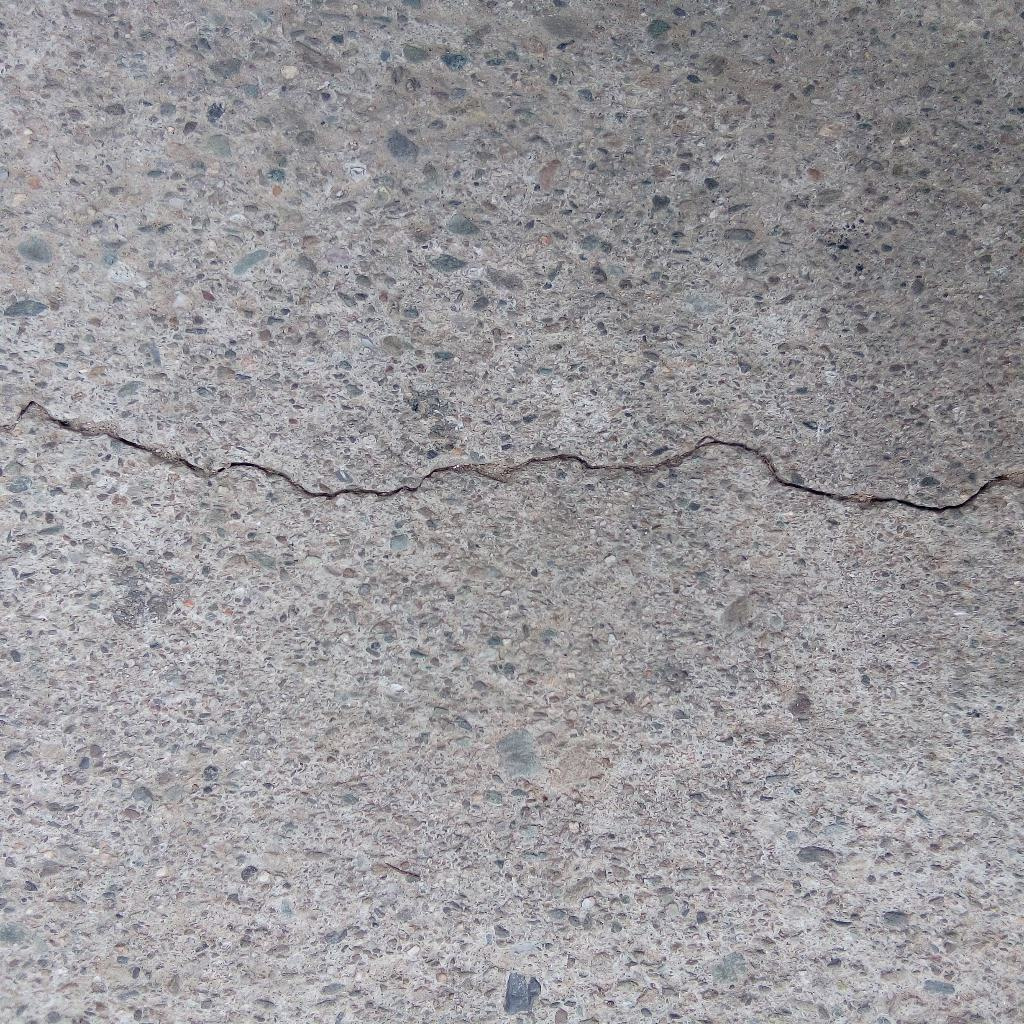Crack: (1, 398, 1024, 514)
